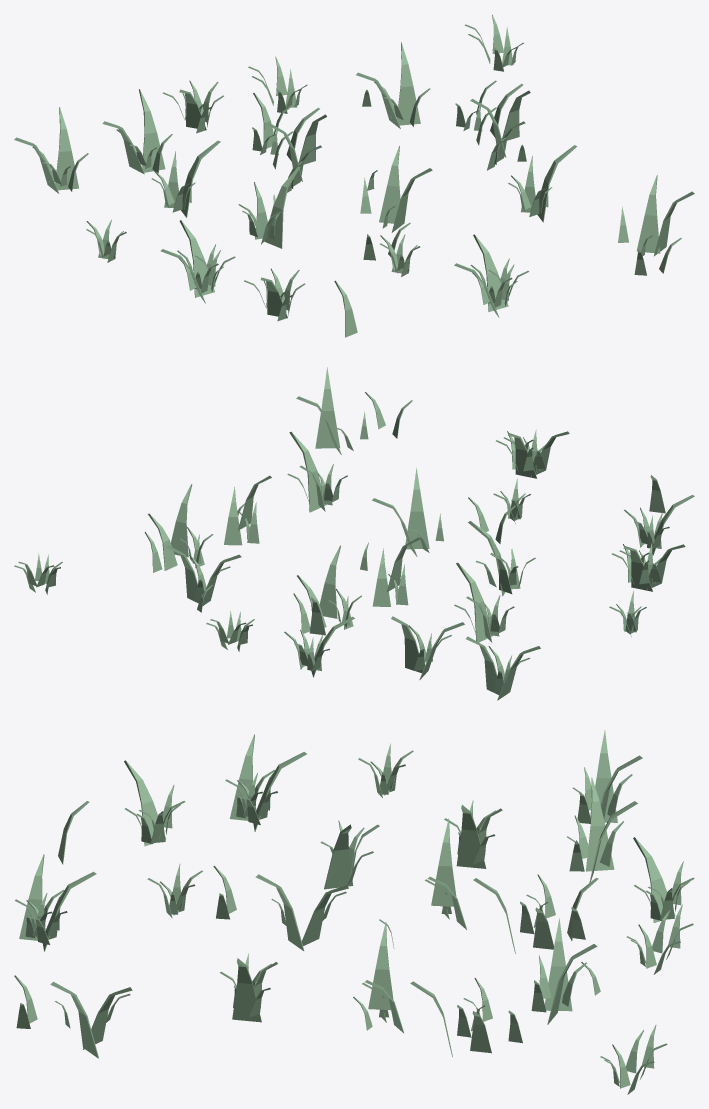
The model's file is FoliageAll_02.FBX.
The picture shows the model from 3 angles, top to bottom: view 1: azimuth 30°, elevation 25°; view 2: azimuth 150°, elevation 25°; view 3: azimuth 270°, elevation 25°; orthographic projection. The views are drawn at different scales.
Visible parts, largest first — view 1: Foliage_All_02; view 2: Foliage_All_02; view 3: Foliage_All_02.
Boxes of the visible parts, x1,y1,x2,y2 form: Foliage_All_02: (14,14,694,337); Foliage_All_02: (14,367,694,700); Foliage_All_02: (14,730,694,1094).
Bounding box in the file's own units: 364 × 52.16 × 338.
